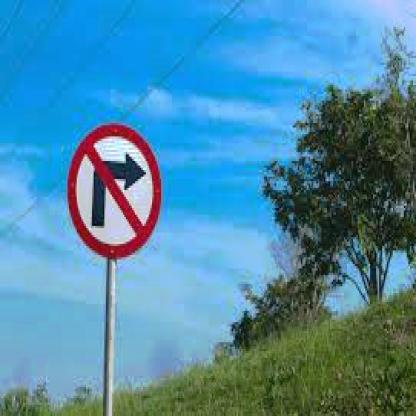No right turn: (65, 118, 163, 264)
